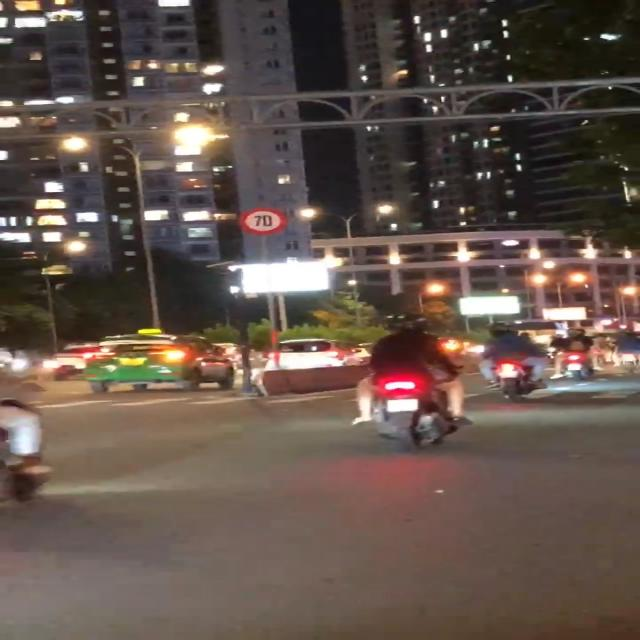Bien bao toc do toi da cho phep: (236, 206, 288, 234)
